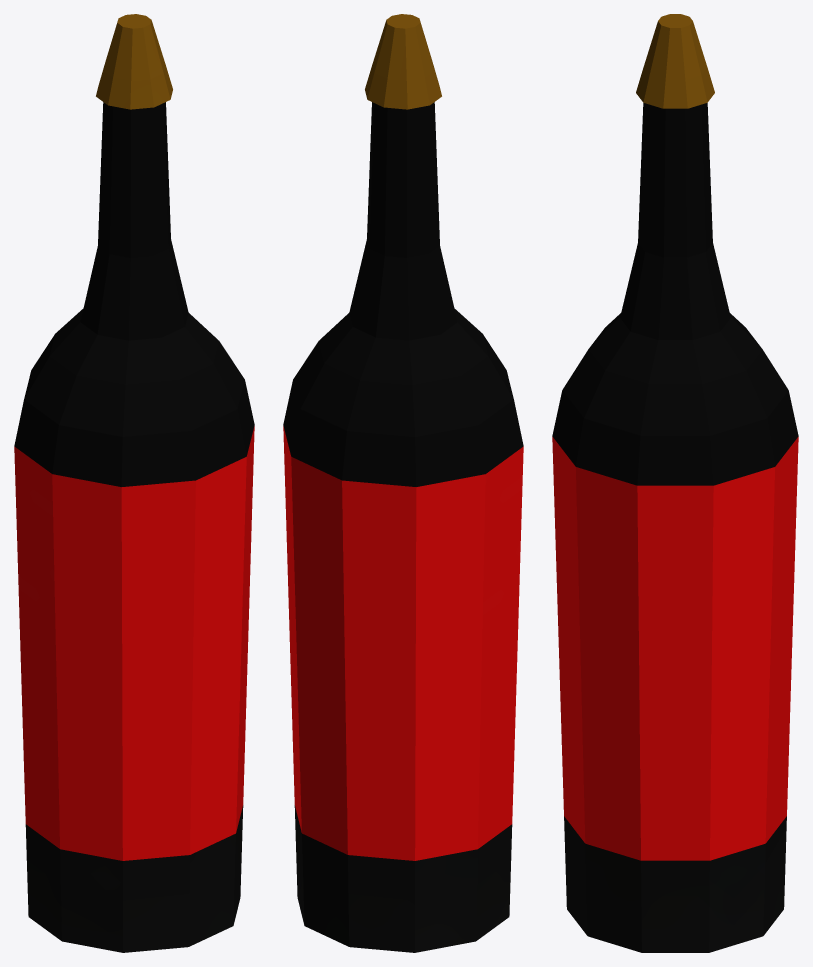
The model's file is Wine_2.fbx.
3 renders of one model, left to right at view 1: azimuth 30°, elevation 25°; view 2: azimuth 150°, elevation 25°; view 3: azimuth 270°, elevation 25°, orthographic.
Parts seen in each view (by area): view 1: Wine 2; view 2: Wine 2; view 3: Wine 2.
Part boxes in pixels (x1,y1,x2,y2): Wine 2: (14,14,254,952); Wine 2: (283,14,523,952); Wine 2: (552,14,798,952).
Size of the model in its own units: 5.09 by 21.27 by 5.35.
